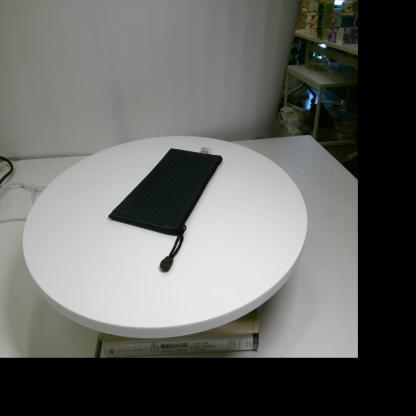Stationery: (108, 147, 223, 271)
